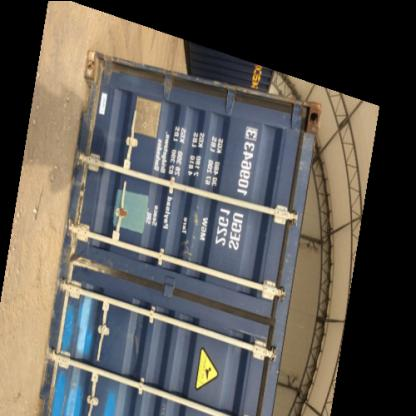Damage: (68, 248, 121, 284), (69, 172, 93, 240)
